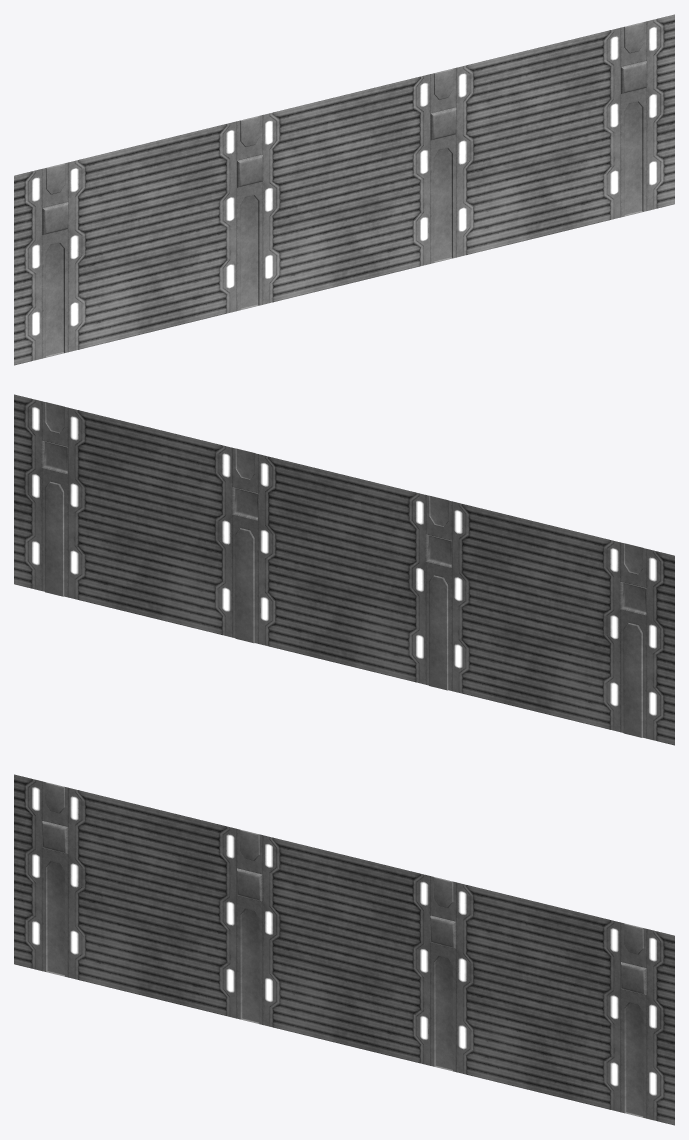
File: wallClean.fbx
The picture shows the model from 3 angles, top to bottom: view 1: azimuth 30°, elevation 25°; view 2: azimuth 150°, elevation 25°; view 3: azimuth 330°, elevation 25°; orthographic projection.
Visible parts, largest first — view 1: Wall_Clean; view 2: Wall_Clean; view 3: Wall_Clean.
Boxes of the visible parts, left/top/right/bottom form: Wall_Clean: left=14, top=14, right=674, bottom=365; Wall_Clean: left=14, top=394, right=674, bottom=745; Wall_Clean: left=14, top=774, right=674, bottom=1125.
Bounding box in the file's own units: 755 × 207 × 4.66.
